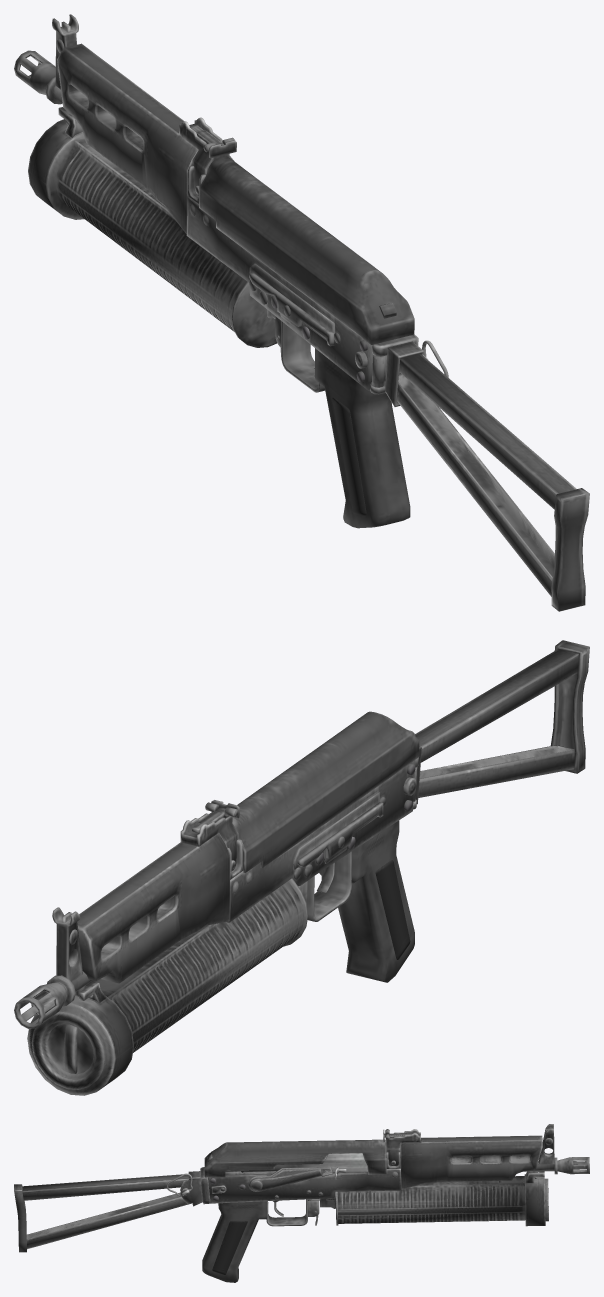
The model's file is bizon.glb.
3 views of the same model, one above another, from view 1: azimuth 30°, elevation 25°; view 2: azimuth 150°, elevation 25°; view 3: azimuth 270°, elevation 25° (orthographic). The views are drawn at different scales.
Visible parts, largest first — view 1: body, mag; view 2: body, mag; view 3: body, mag.
Boxes of the visible parts, x1=… form: body: x1=14, y1=14, x2=589, y2=611; mag: x1=28, y1=107, x2=370, y2=390; body: x1=14, y1=640, x2=589, y2=1028; mag: x1=27, y1=760, x2=415, y2=1095; body: x1=14, y1=1124, x2=589, y2=1282; mag: x1=320, y1=1171, x2=548, y2=1226.
Bounding box in the file's own units: 0.0622 × 0.1911 × 0.66.
1 material, 1 textured.
